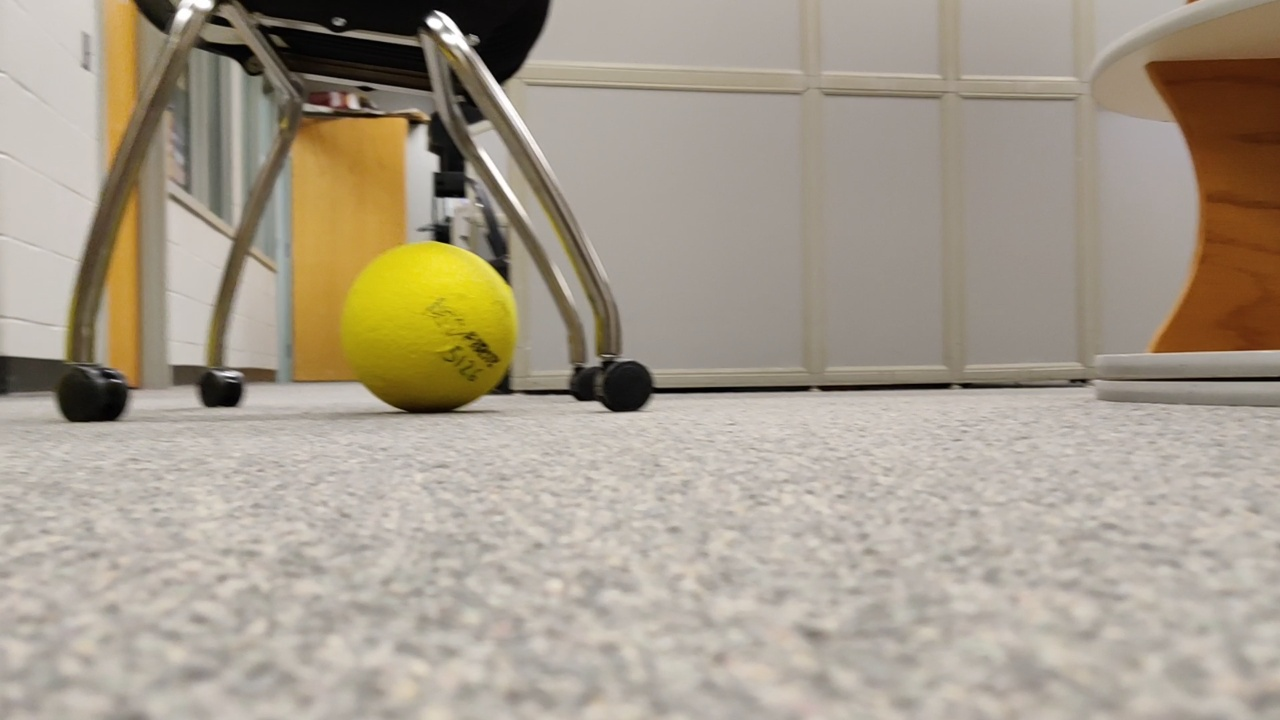Ball: (344, 241, 523, 411)
